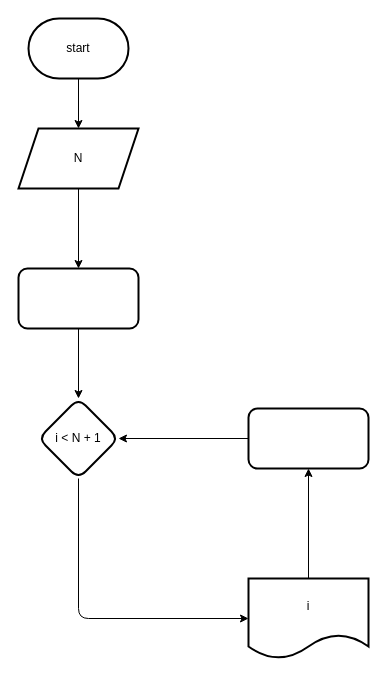
Some shapes in this 386 by 676 pixel diagram are drawn without their labels. Here are the shapes that lost their labels. From the top down, the centre of each, then its label:
the point at 78,298: i =1
the point at 308,438: i += 1
